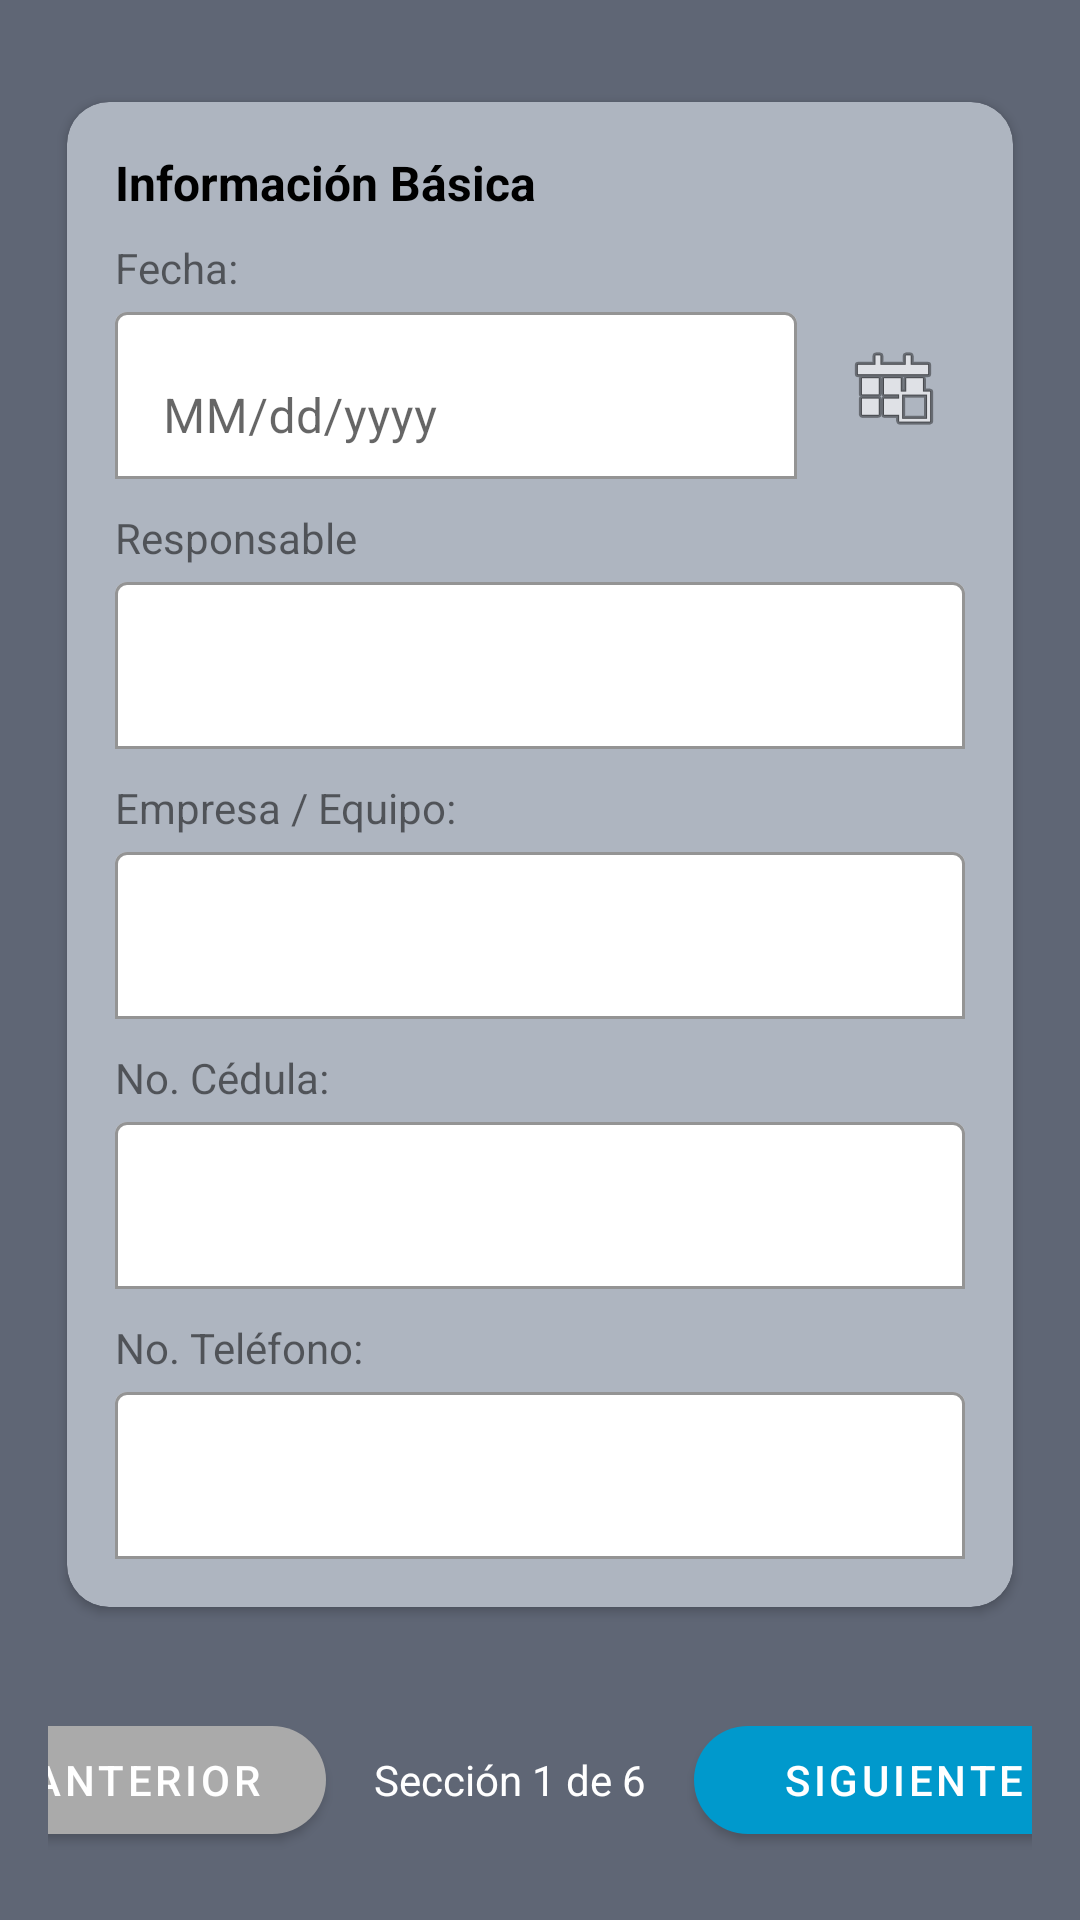

Named icons in this screenshot (1080×1920) and their bounding boxes, (x1, y1, x2, y2):
Seleccionar fecha: (855, 352, 933, 425)
